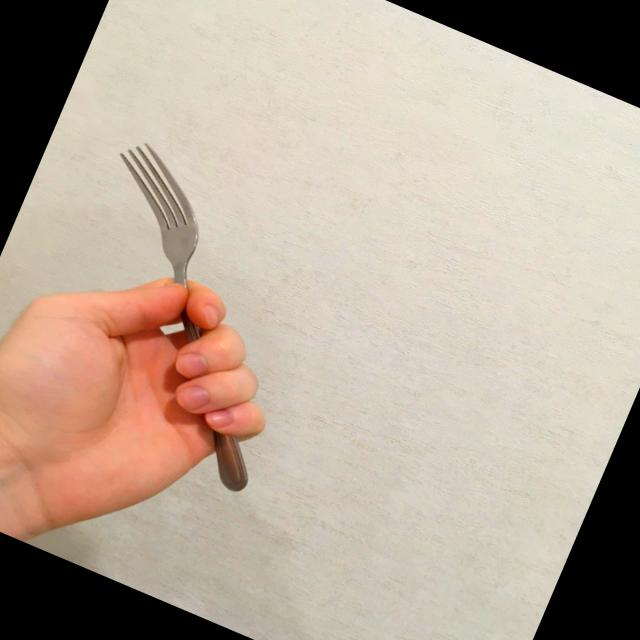fork: (13, 134, 353, 494)
